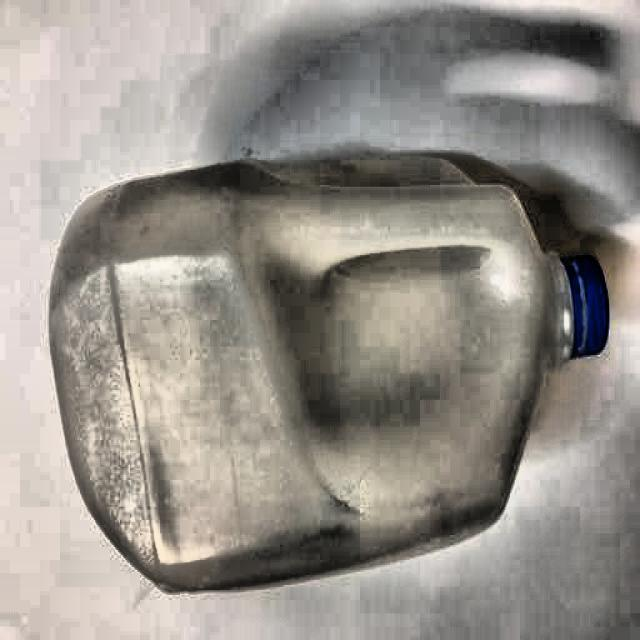plastic: (46, 159, 615, 604)
